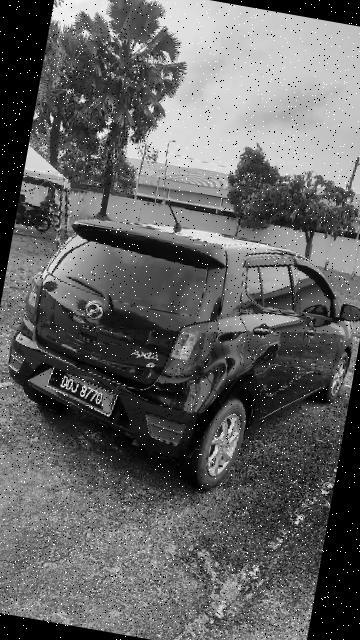License_Plate: (34, 350, 130, 429)
car: (1, 189, 360, 511)
